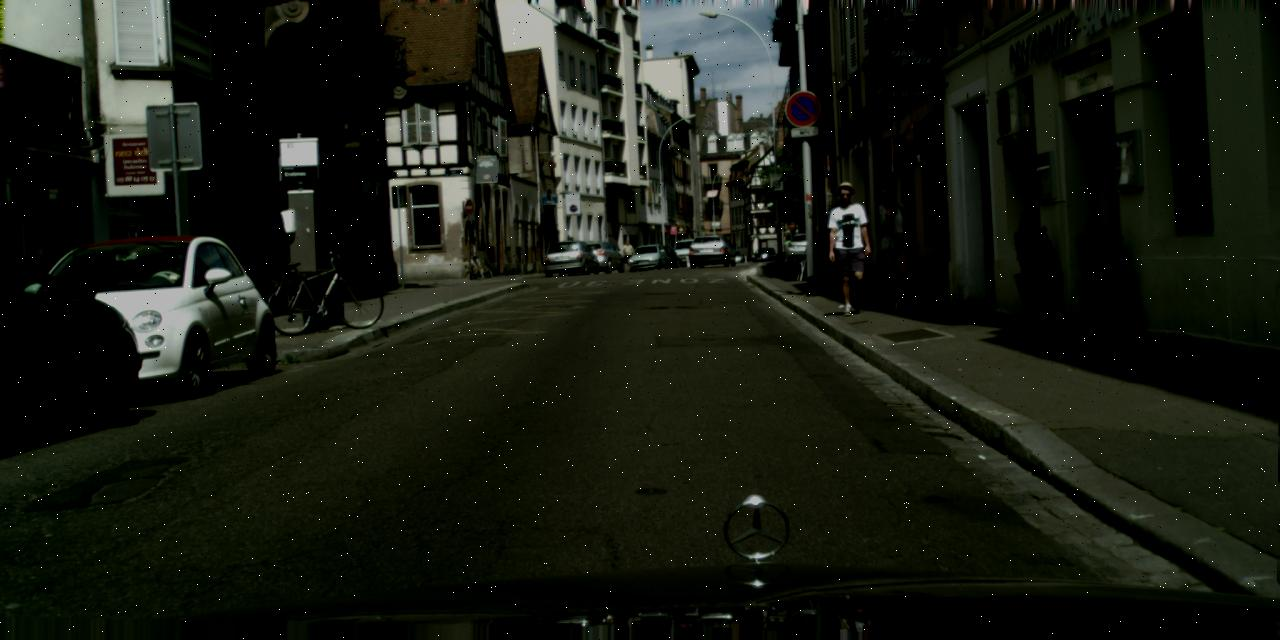ped: (822, 180, 876, 312), (868, 186, 917, 307), (822, 199, 857, 285), (622, 240, 632, 269)
